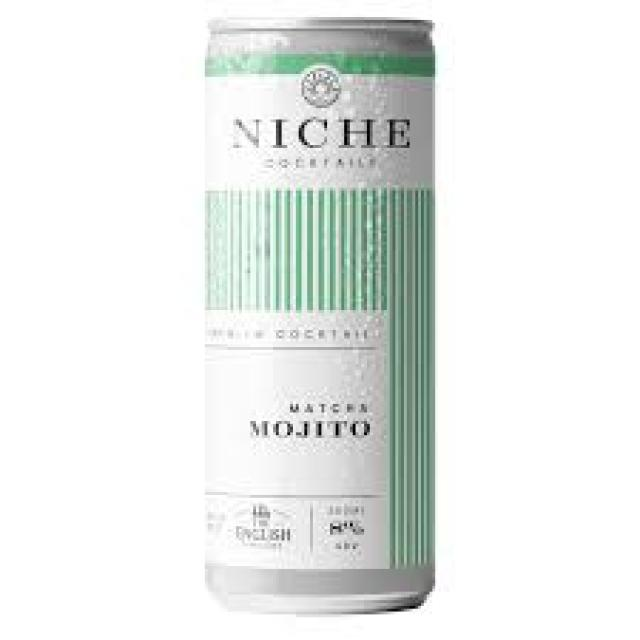Cans: (185, 9, 452, 617)
